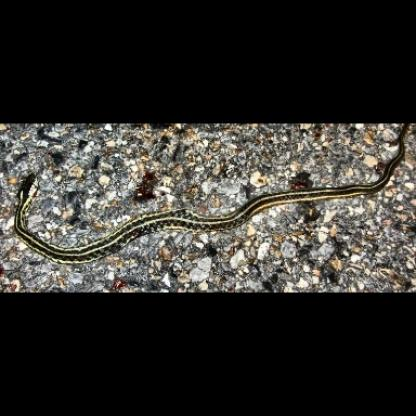Snake: (15, 124, 407, 264)
